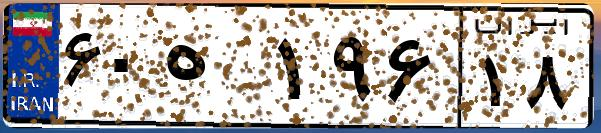0: (110, 28, 158, 98)
1: (270, 28, 330, 110), (475, 38, 525, 113)
6: (385, 28, 445, 110), (57, 26, 110, 100)
8: (525, 38, 570, 115)
9: (330, 28, 385, 110)
ه: (158, 20, 270, 120)
